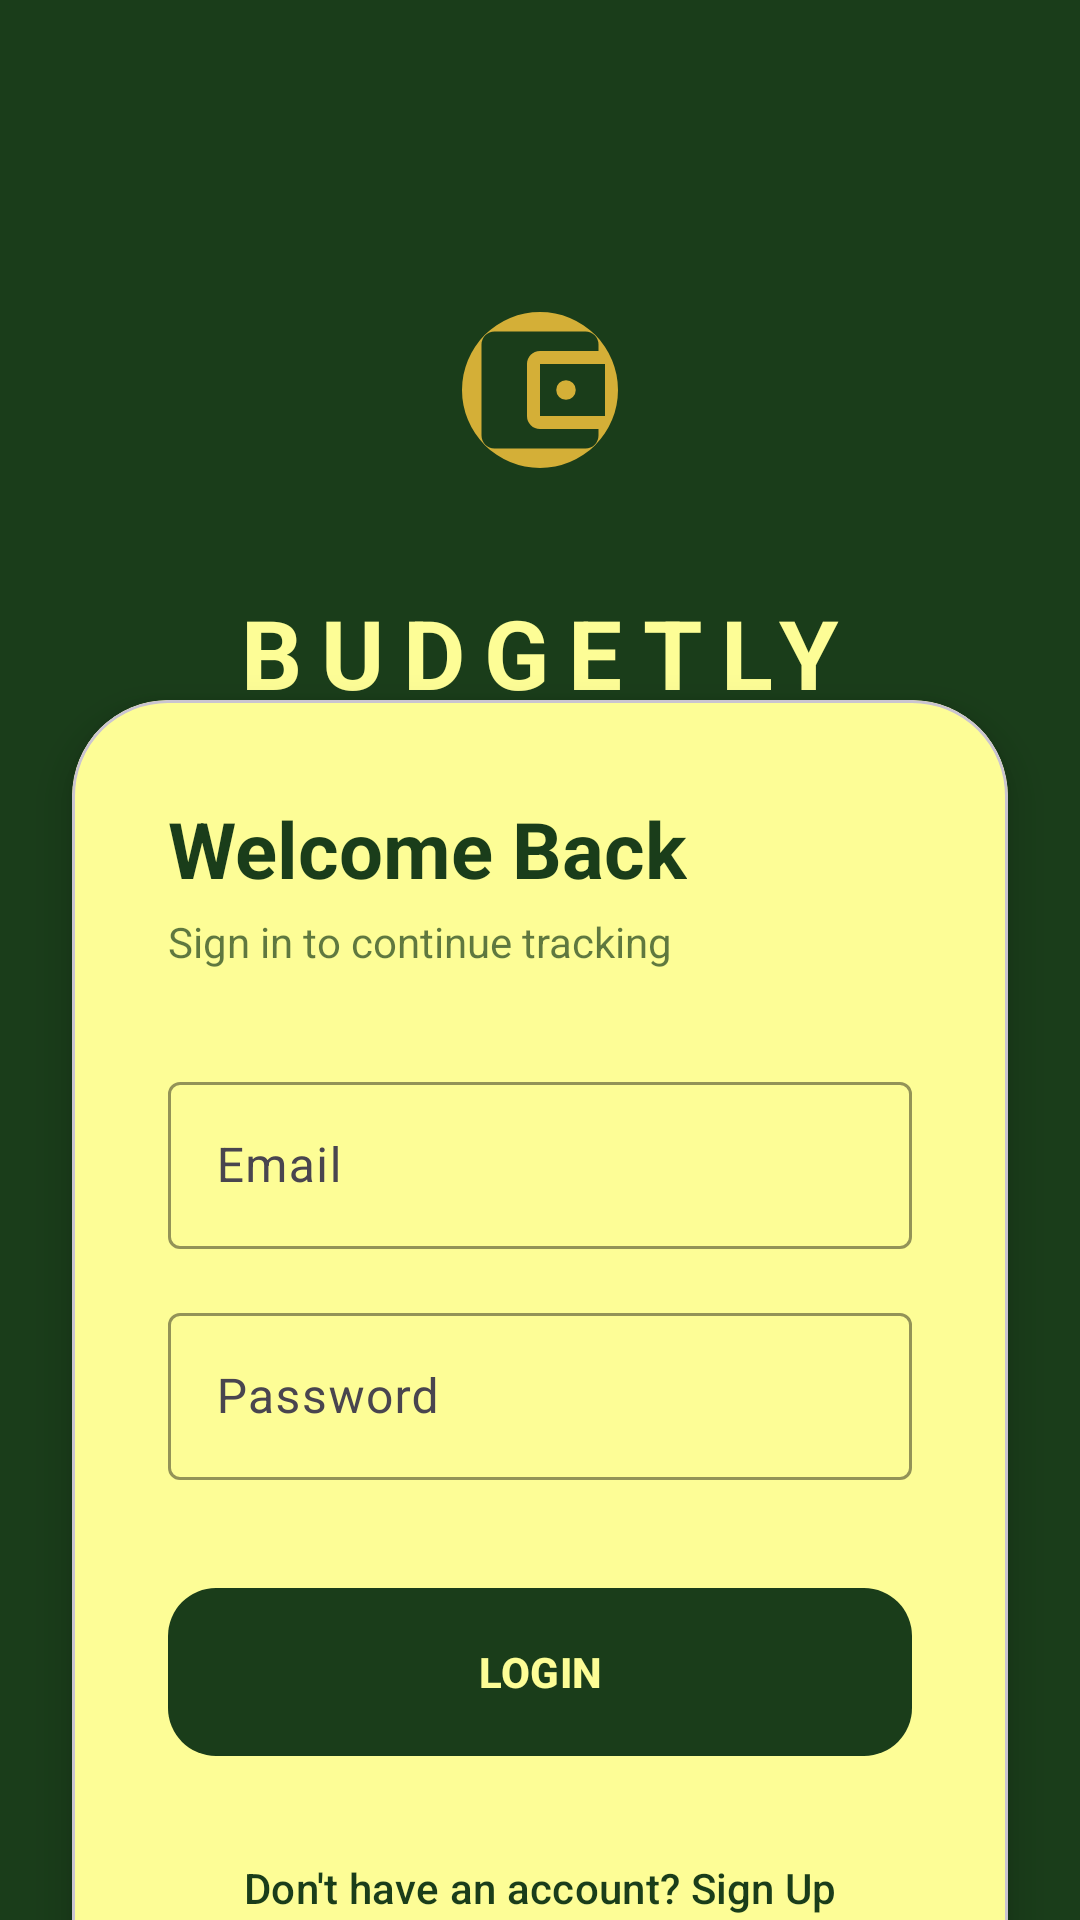

Named icons in this screenshot (1080px x 1920px) and their centers, [x,y]:
wallet: [540,390]
